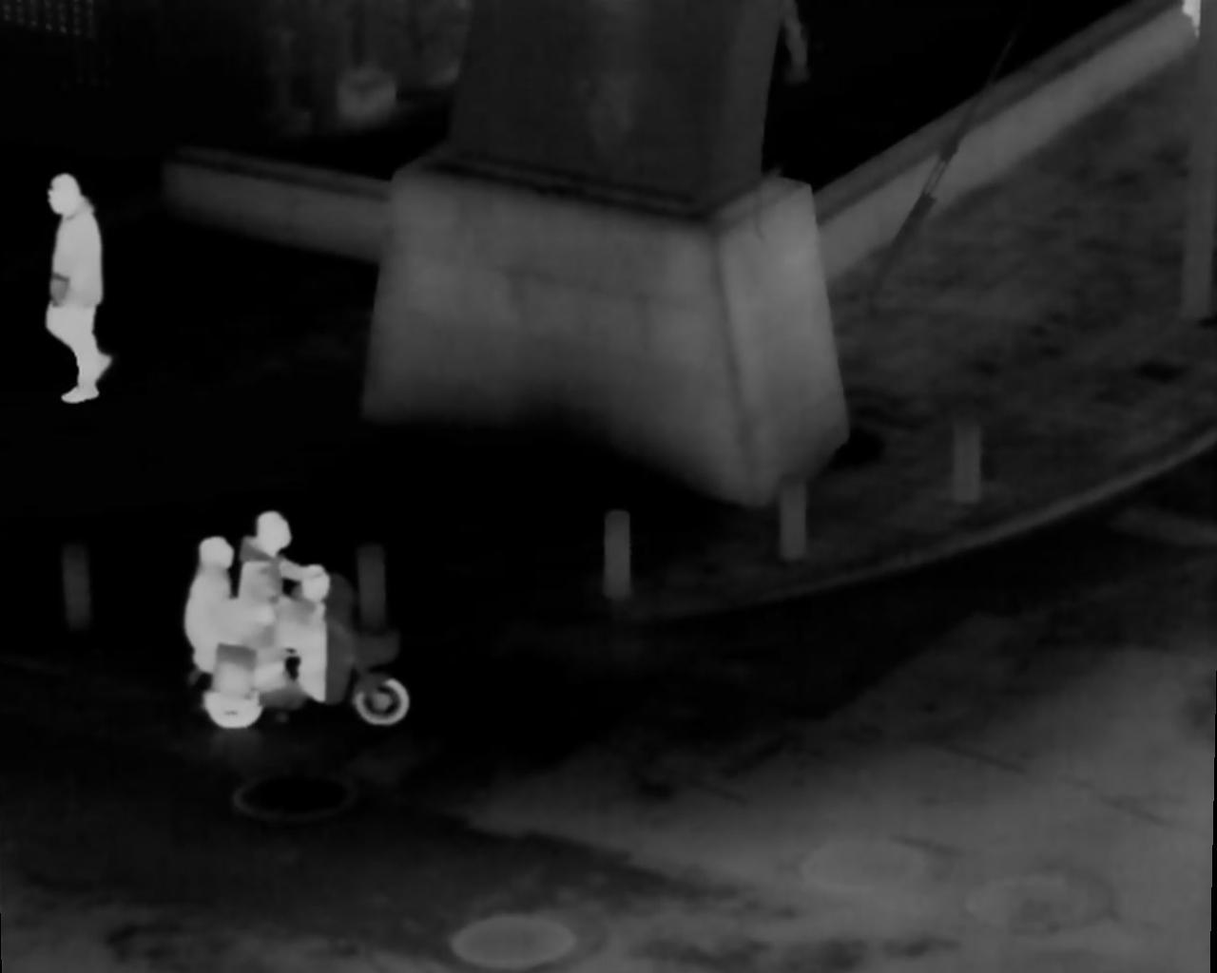person: (41, 169, 111, 406), (251, 510, 320, 710), (191, 536, 262, 715)
